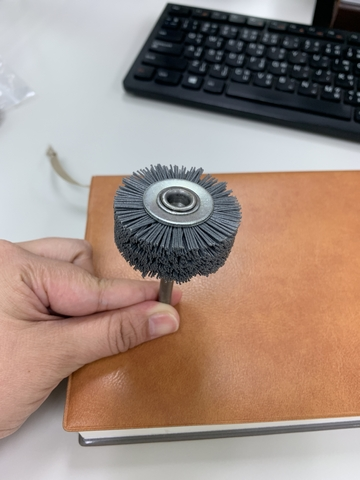Wheel Brush: (109, 159, 244, 307), (115, 160, 231, 304)
